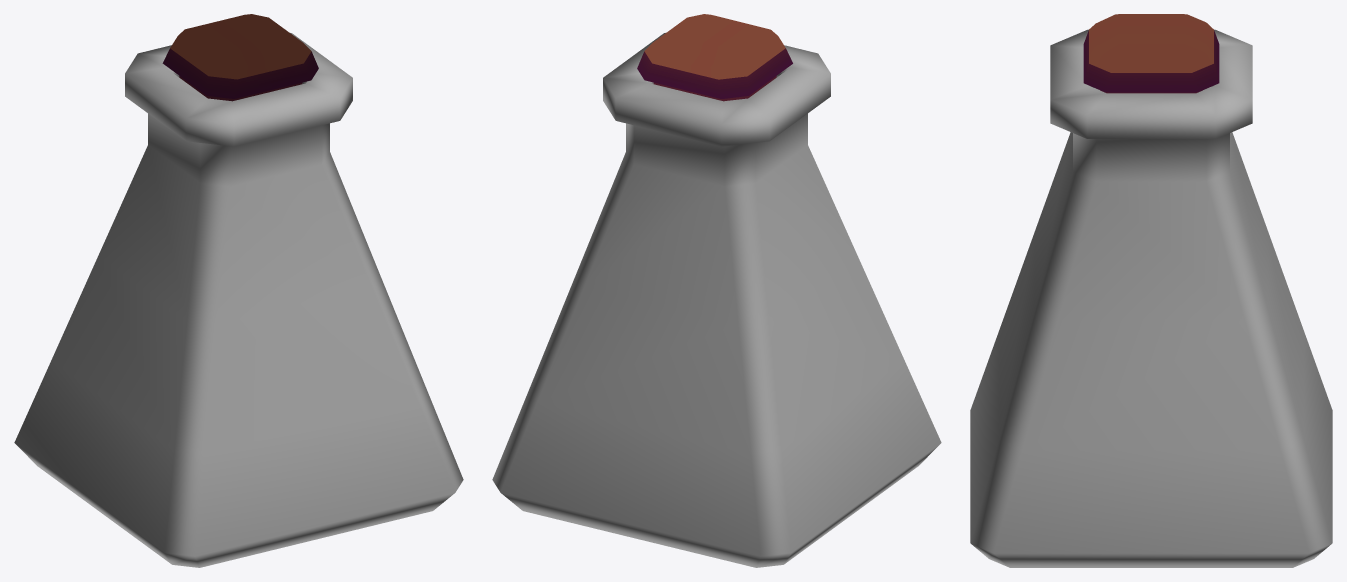
Rendered from Potion1.fbx.
3 renders of one model, left to right at view 1: azimuth 30°, elevation 25°; view 2: azimuth 150°, elevation 25°; view 3: azimuth 270°, elevation 25°, orthographic. The views are drawn at different scales.
Parts seen in each view (by area): view 1: Glass, Extra; view 2: Glass, Extra; view 3: Glass, Extra.
Part boxes in pixels (box(x1,y1,x2,y2)): Glass: box(14, 33, 463, 567); Extra: box(162, 14, 318, 101); Glass: box(492, 33, 941, 567); Extra: box(637, 14, 792, 101); Glass: box(970, 29, 1332, 567); Extra: box(1083, 14, 1219, 93).
Bounding box in the file's own units: 1 × 1.44 × 1.
